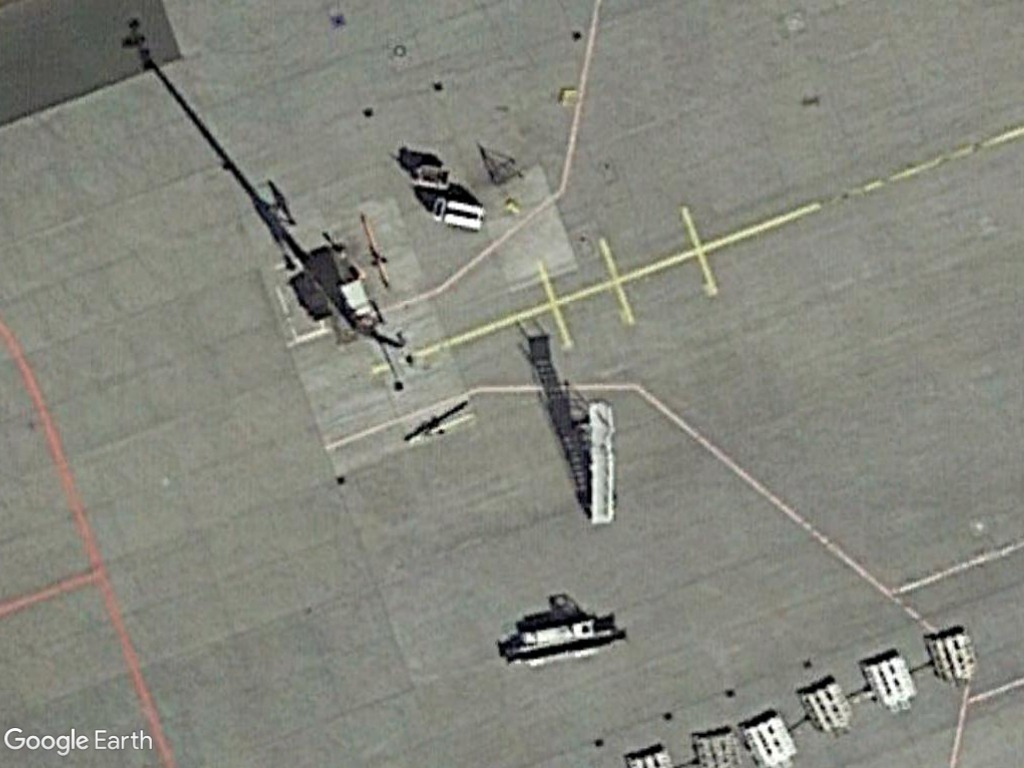stairtruck: (566, 395, 621, 530)
